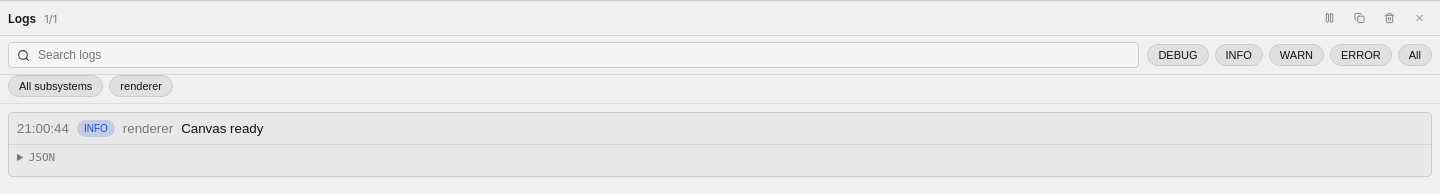
Test: LogConsole › clears visible logs
Click the button titled "Clear logs" at coordinates (1389, 18), box [1376, 7, 1402, 29]
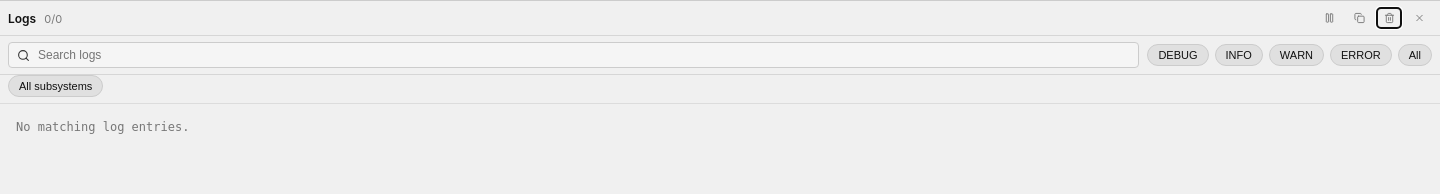
Check: the text "No matching log entries." is shown, box [16, 120, 189, 134]
Check: the text "0/0" is shown, box [44, 12, 62, 26]
